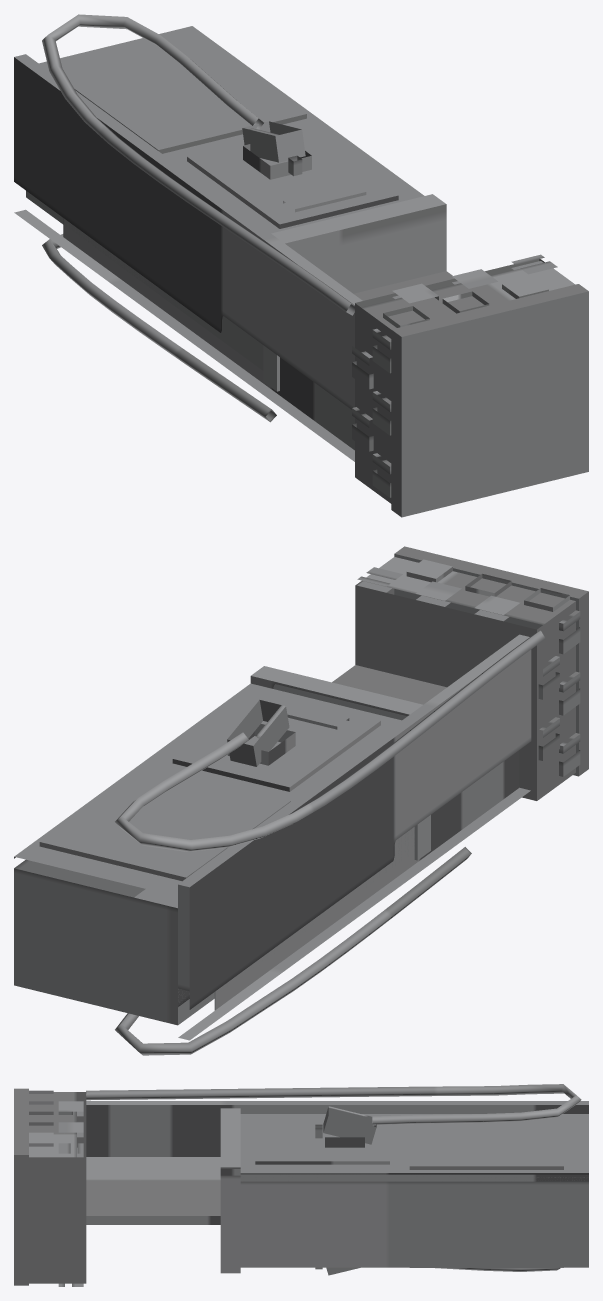
3 views of the same model, one above another, from view 1: azimuth 30°, elevation 25°; view 2: azimuth 150°, elevation 25°; view 3: azimuth 270°, elevation 25° (orthographic). The views are drawn at different scales.
Size of the model in its own units: 0.677 by 0.726 by 2.31.
